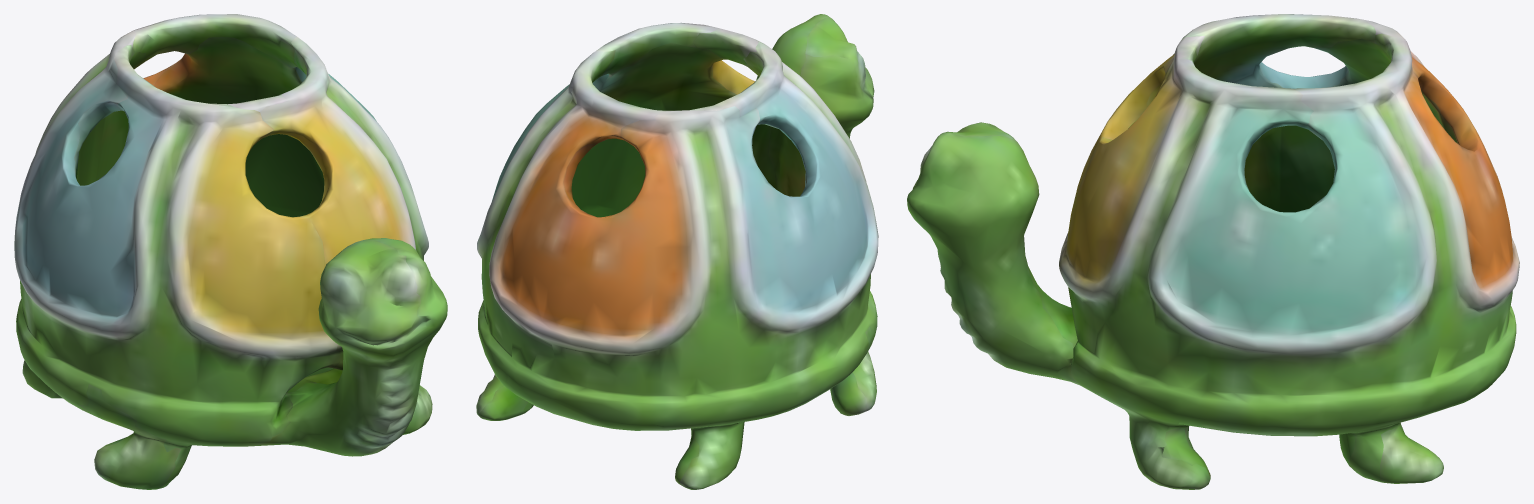
The model's file is Circo_Fish_Toothbrush_Holder_14995988-high.glb.
The picture shows the model from 3 angles, left to right: view 1: azimuth 30°, elevation 25°; view 2: azimuth 150°, elevation 25°; view 3: azimuth 270°, elevation 25°; orthographic projection. The views are drawn at different scales.
Parts seen in each view (by area): view 1: Circo_Fish_Toothbrush_Holder_14995988; view 2: Circo_Fish_Toothbrush_Holder_14995988; view 3: Circo_Fish_Toothbrush_Holder_14995988.
Boxes of the visible parts, left/top/right/bottom form: Circo_Fish_Toothbrush_Holder_14995988: left=14, top=14, right=447, bottom=489; Circo_Fish_Toothbrush_Holder_14995988: left=476, top=14, right=878, bottom=489; Circo_Fish_Toothbrush_Holder_14995988: left=907, top=14, right=1519, bottom=489.
Size of the model in its own units: 0.1058 by 0.1018 by 0.1547.
1 material, 1 textured.
